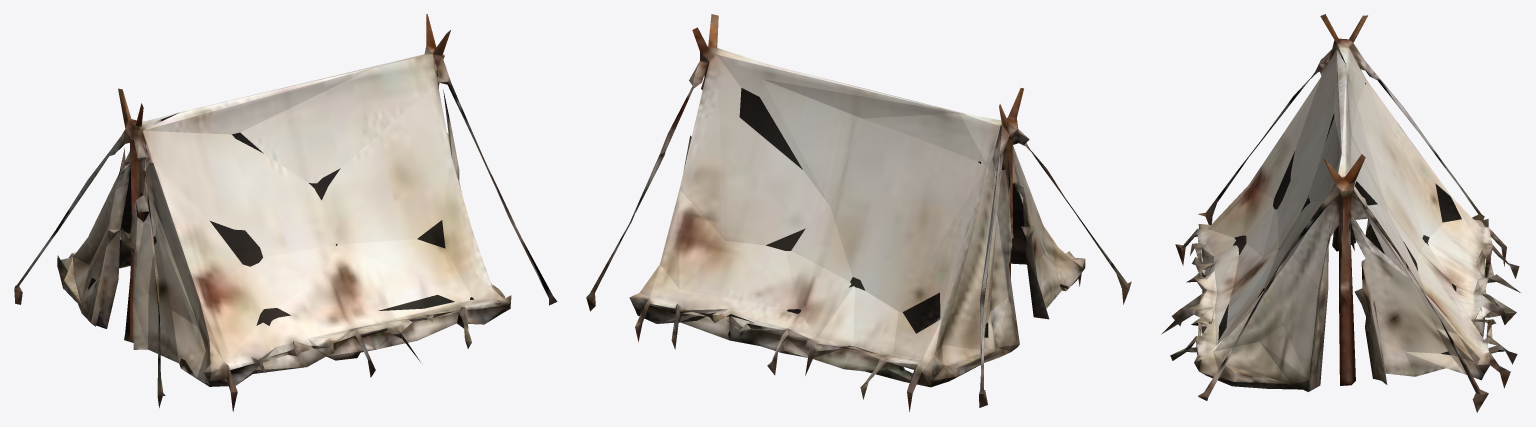
File: ga3_tent_lod1.glb
The picture shows the model from 3 angles, left to right: view 1: azimuth 30°, elevation 25°; view 2: azimuth 150°, elevation 25°; view 3: azimuth 270°, elevation 25°; orthographic projection. The views are drawn at different scales.
Parts seen in each view (by area): view 1: ga3_tent_lod1; view 2: ga3_tent_lod1; view 3: ga3_tent_lod1.
Boxes of the visible parts, bbox=[...] form: ga3_tent_lod1: bbox=[14, 14, 557, 411]; ga3_tent_lod1: bbox=[586, 14, 1131, 411]; ga3_tent_lod1: bbox=[1161, 14, 1520, 412].
Size of the model in its own units: 5 by 3.13 by 4.16.
Materials: 1 (1 with a texture image).
